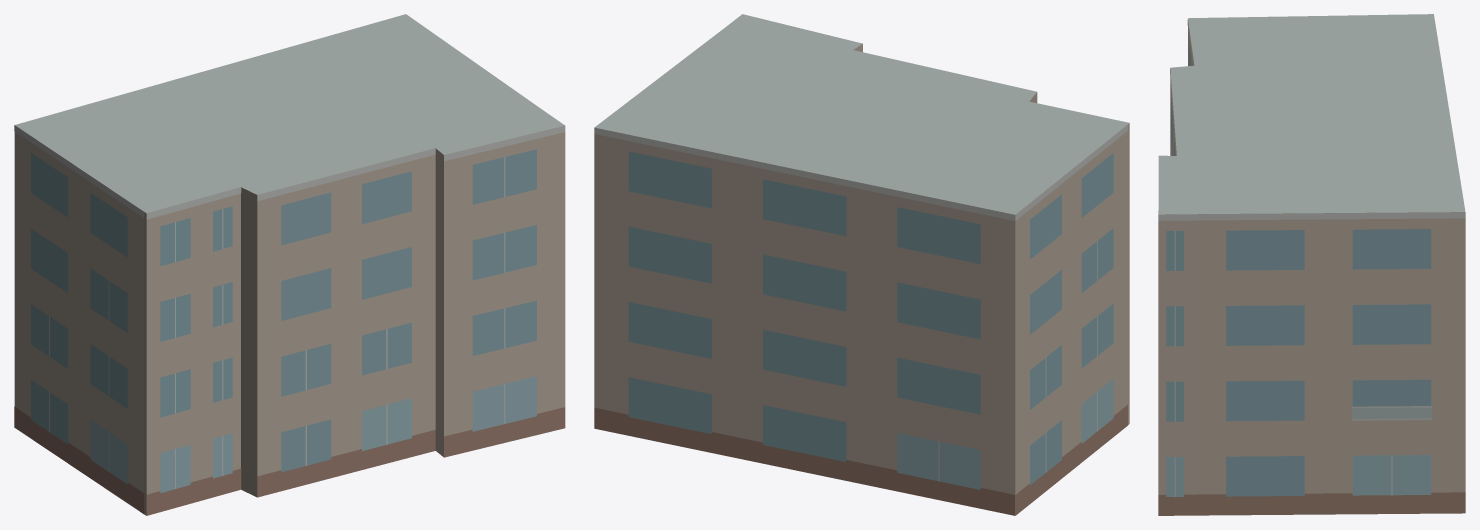
Rendered from survey-upis-32604385.glb.
The picture shows the model from 3 angles, left to right: view 1: azimuth 30°, elevation 25°; view 2: azimuth 150°, elevation 25°; view 3: azimuth 270°, elevation 25°; orthographic projection.
Parts seen in each view (by area): view 1: survey-upis-32604385.tmp; view 2: survey-upis-32604385.tmp; view 3: survey-upis-32604385.tmp.
Part boxes in pixels (left/top/right/bottom): survey-upis-32604385.tmp: left=14, top=14, right=565, bottom=515; survey-upis-32604385.tmp: left=594, top=14, right=1129, bottom=515; survey-upis-32604385.tmp: left=1158, top=14, right=1465, bottom=515.
Size of the model in its own units: 16.56 by 11.6 by 10.72.
